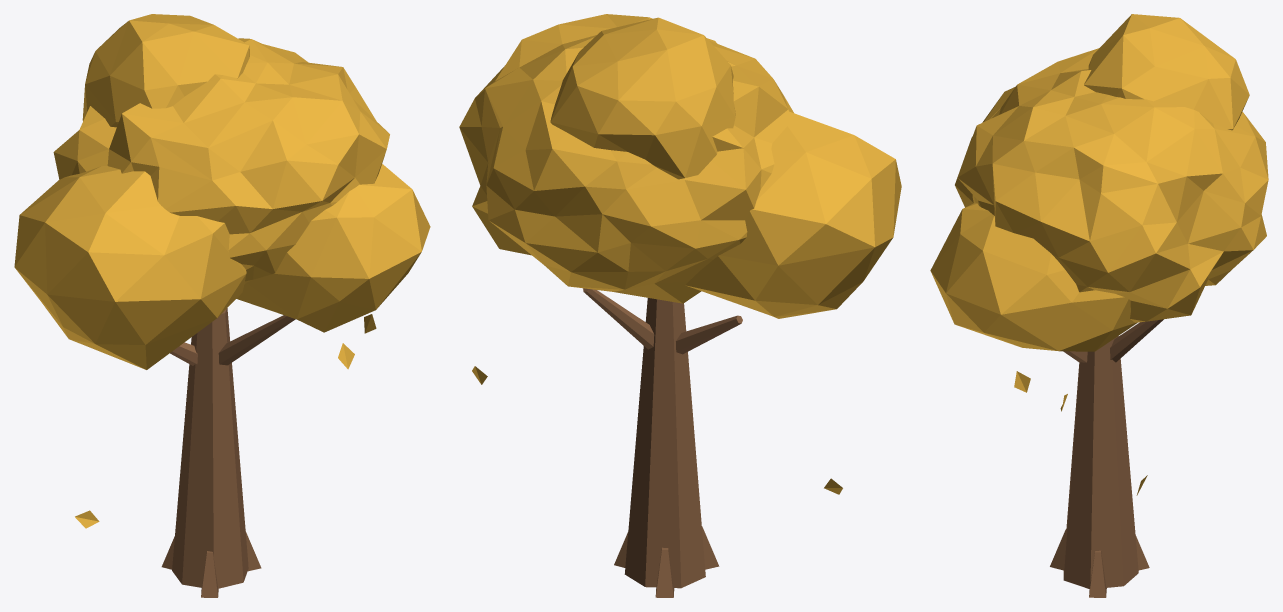
Rendered from tree_autumn.glb.
3 renders of one model, left to right at view 1: azimuth 30°, elevation 25°; view 2: azimuth 150°, elevation 25°; view 3: azimuth 270°, elevation 25°, orthographic. The views are drawn at different scales.
Visible parts, largest first — view 1: Canopy, Trunk; view 2: Canopy, Trunk; view 3: Canopy, Trunk.
Boxes of the visible parts, x1,y1,x2,y2 form: Canopy: (14, 14, 430, 369); Trunk: (161, 308, 295, 597); Canopy: (459, 14, 901, 318); Trunk: (583, 288, 742, 597); Canopy: (930, 14, 1268, 351); Trunk: (1050, 319, 1163, 597).
Bounding box in the file's own units: 5 × 6.92 × 3.93.
